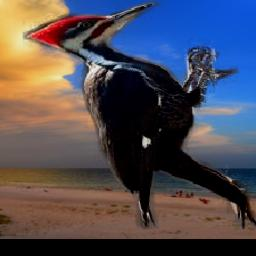Woodpecker: (23, 0, 256, 229)
